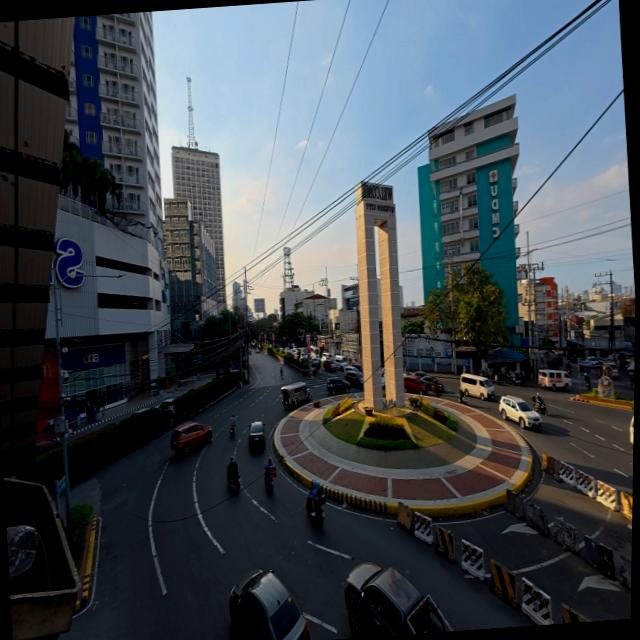Jeepneys: (280, 382, 310, 408)
car: (229, 570, 310, 639), (170, 422, 211, 455), (499, 396, 540, 428), (247, 420, 266, 450), (325, 377, 349, 396), (34, 438, 60, 455), (403, 376, 427, 394), (344, 370, 365, 390), (419, 376, 443, 393), (156, 399, 174, 415), (602, 364, 618, 378), (129, 407, 148, 418), (334, 356, 347, 371), (322, 360, 336, 372), (628, 416, 633, 446), (341, 366, 361, 373), (410, 371, 428, 378), (586, 356, 598, 366), (351, 362, 362, 372), (321, 353, 333, 362), (311, 357, 320, 366), (380, 376, 384, 388), (255, 348, 260, 353)
motorcycle: (305, 494, 325, 524), (531, 396, 548, 416), (264, 467, 275, 492), (227, 470, 239, 491), (457, 388, 467, 405), (509, 373, 521, 386), (431, 383, 443, 396), (480, 369, 490, 378), (229, 424, 235, 438), (584, 378, 590, 390), (279, 370, 282, 379)
trucks: (344, 563, 448, 637)
vans: (459, 374, 493, 400), (537, 370, 569, 390), (321, 352, 332, 363)
